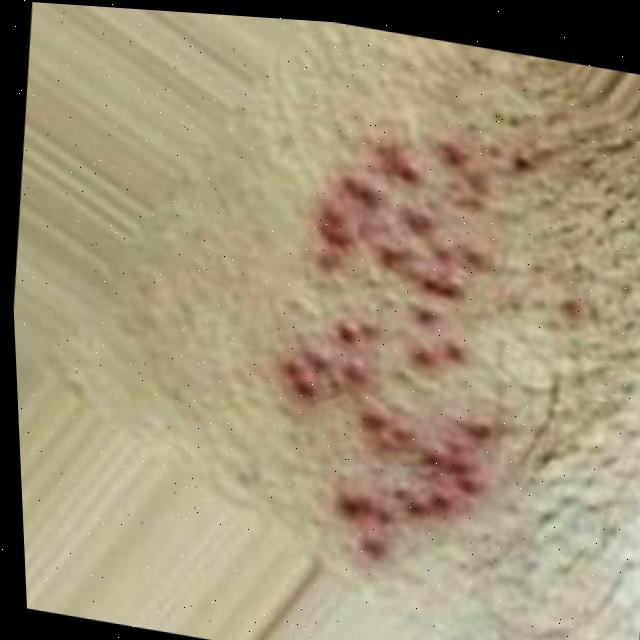Shingles: (248, 92, 561, 587)
